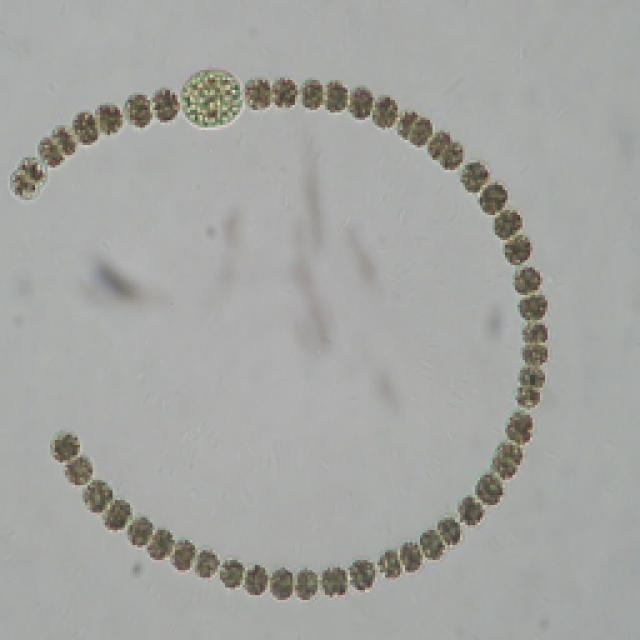Anabaena: (7, 66, 554, 609)
